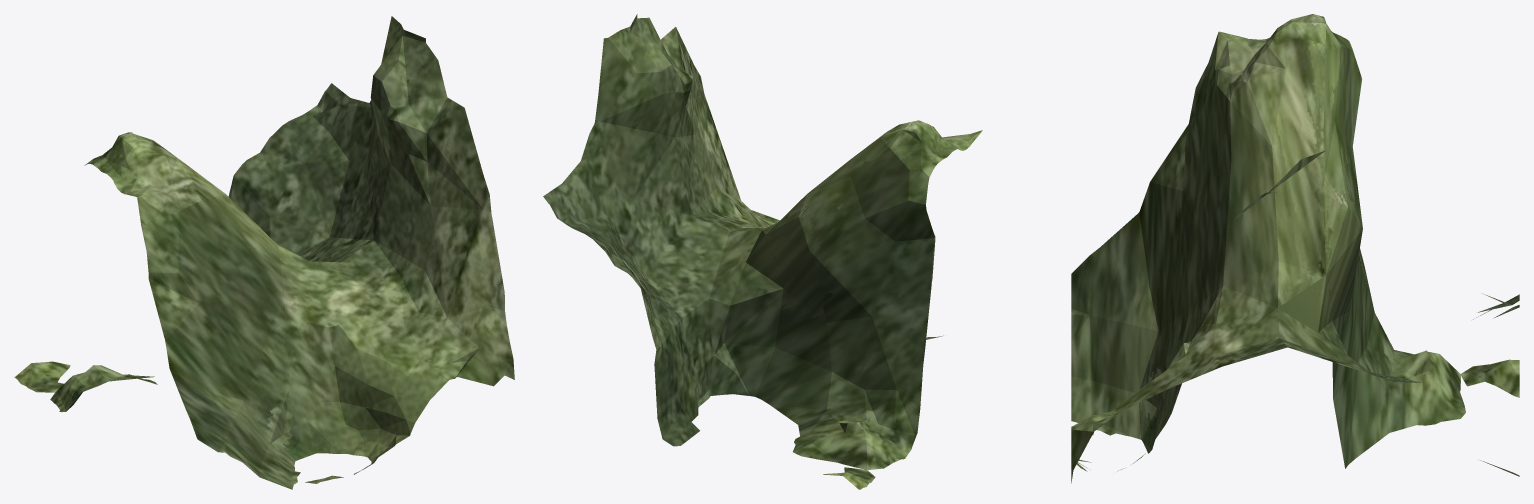
3 views of the same model, side by side, from view 1: azimuth 30°, elevation 25°; view 2: azimuth 150°, elevation 25°; view 3: azimuth 270°, elevation 25° (orthographic). The views are drawn at different scales.
Size of the model in its own units: 2.95 by 2.95 by 2.95.
Materials: 5 (5 with a texture image).
